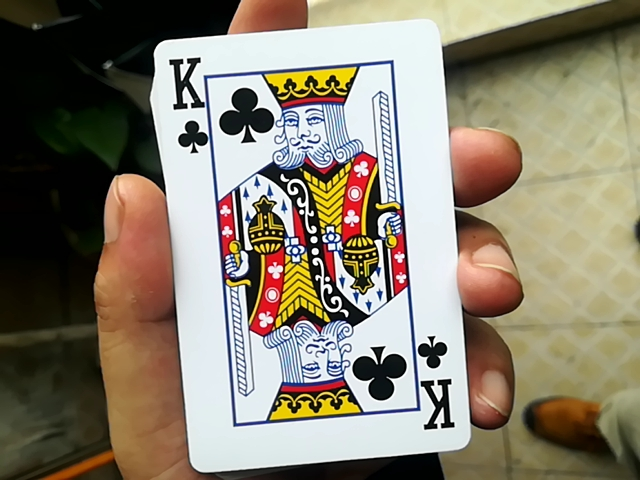mh k: (136, 11, 464, 456)
